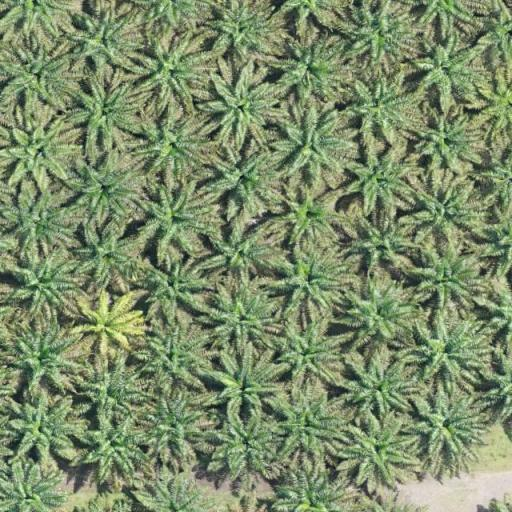Ganoderma: (87, 304, 127, 346)
